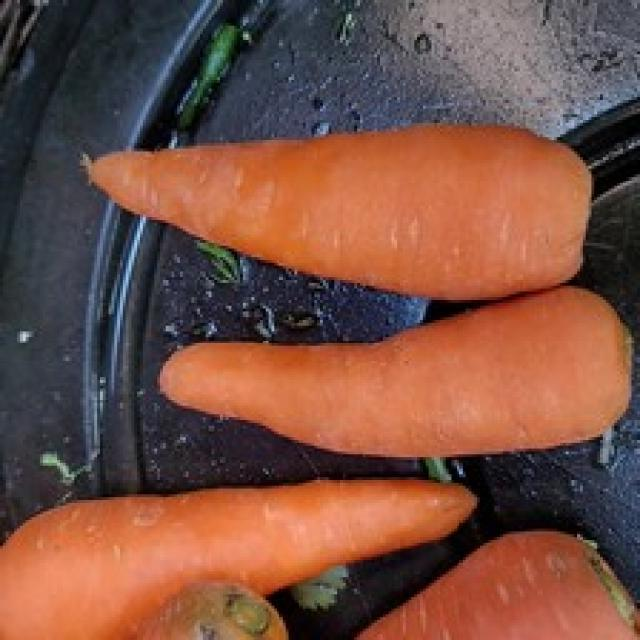carrot: (84, 124, 595, 293), (158, 290, 632, 457), (2, 481, 475, 640)
